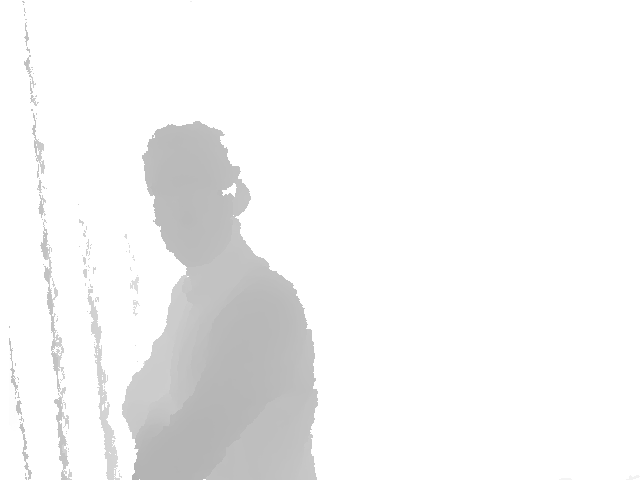head: (142, 120, 250, 269)
person: (119, 120, 322, 480)
